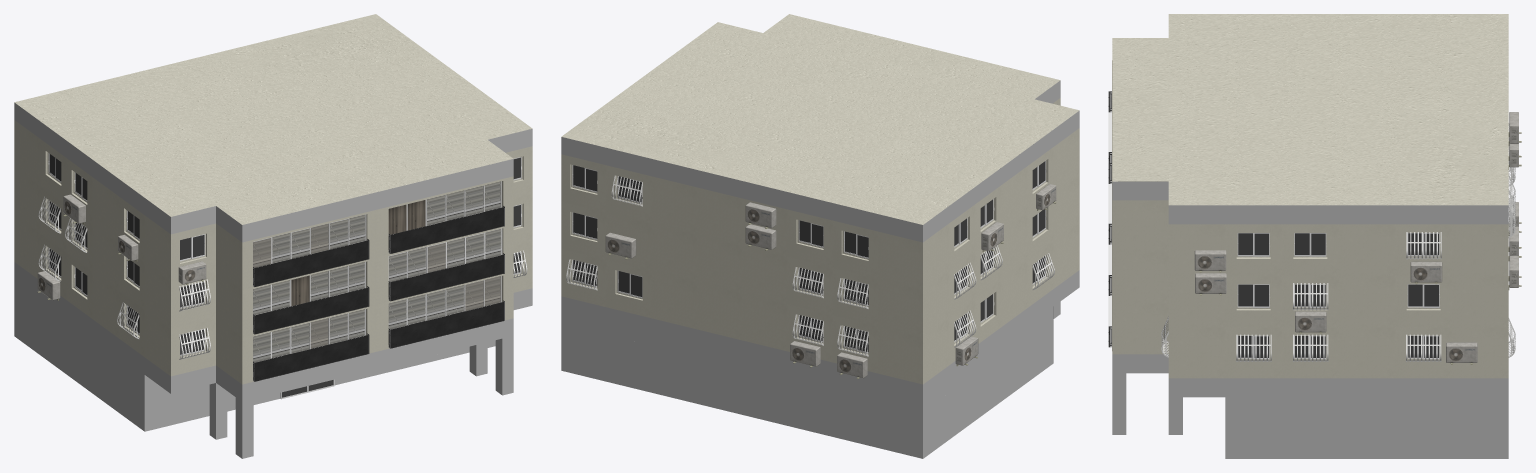
File: SM_Building_02_a.fbx
3 views of the same model, side by side, from view 1: azimuth 30°, elevation 25°; view 2: azimuth 150°, elevation 25°; view 3: azimuth 270°, elevation 25° (orthographic). The views are drawn at different scales.
Parts seen in each view (by area): view 1: SM_Building_02_a; view 2: SM_Building_02_a; view 3: SM_Building_02_a.
Boxes of the visible parts, x1=… form: SM_Building_02_a: x1=14, y1=14, x2=532, y2=458; SM_Building_02_a: x1=561, y1=14, x2=1079, y2=458; SM_Building_02_a: x1=1108, y1=14, x2=1521, y2=458.
Size of the model in its own units: 2538 by 1486 by 2190.
